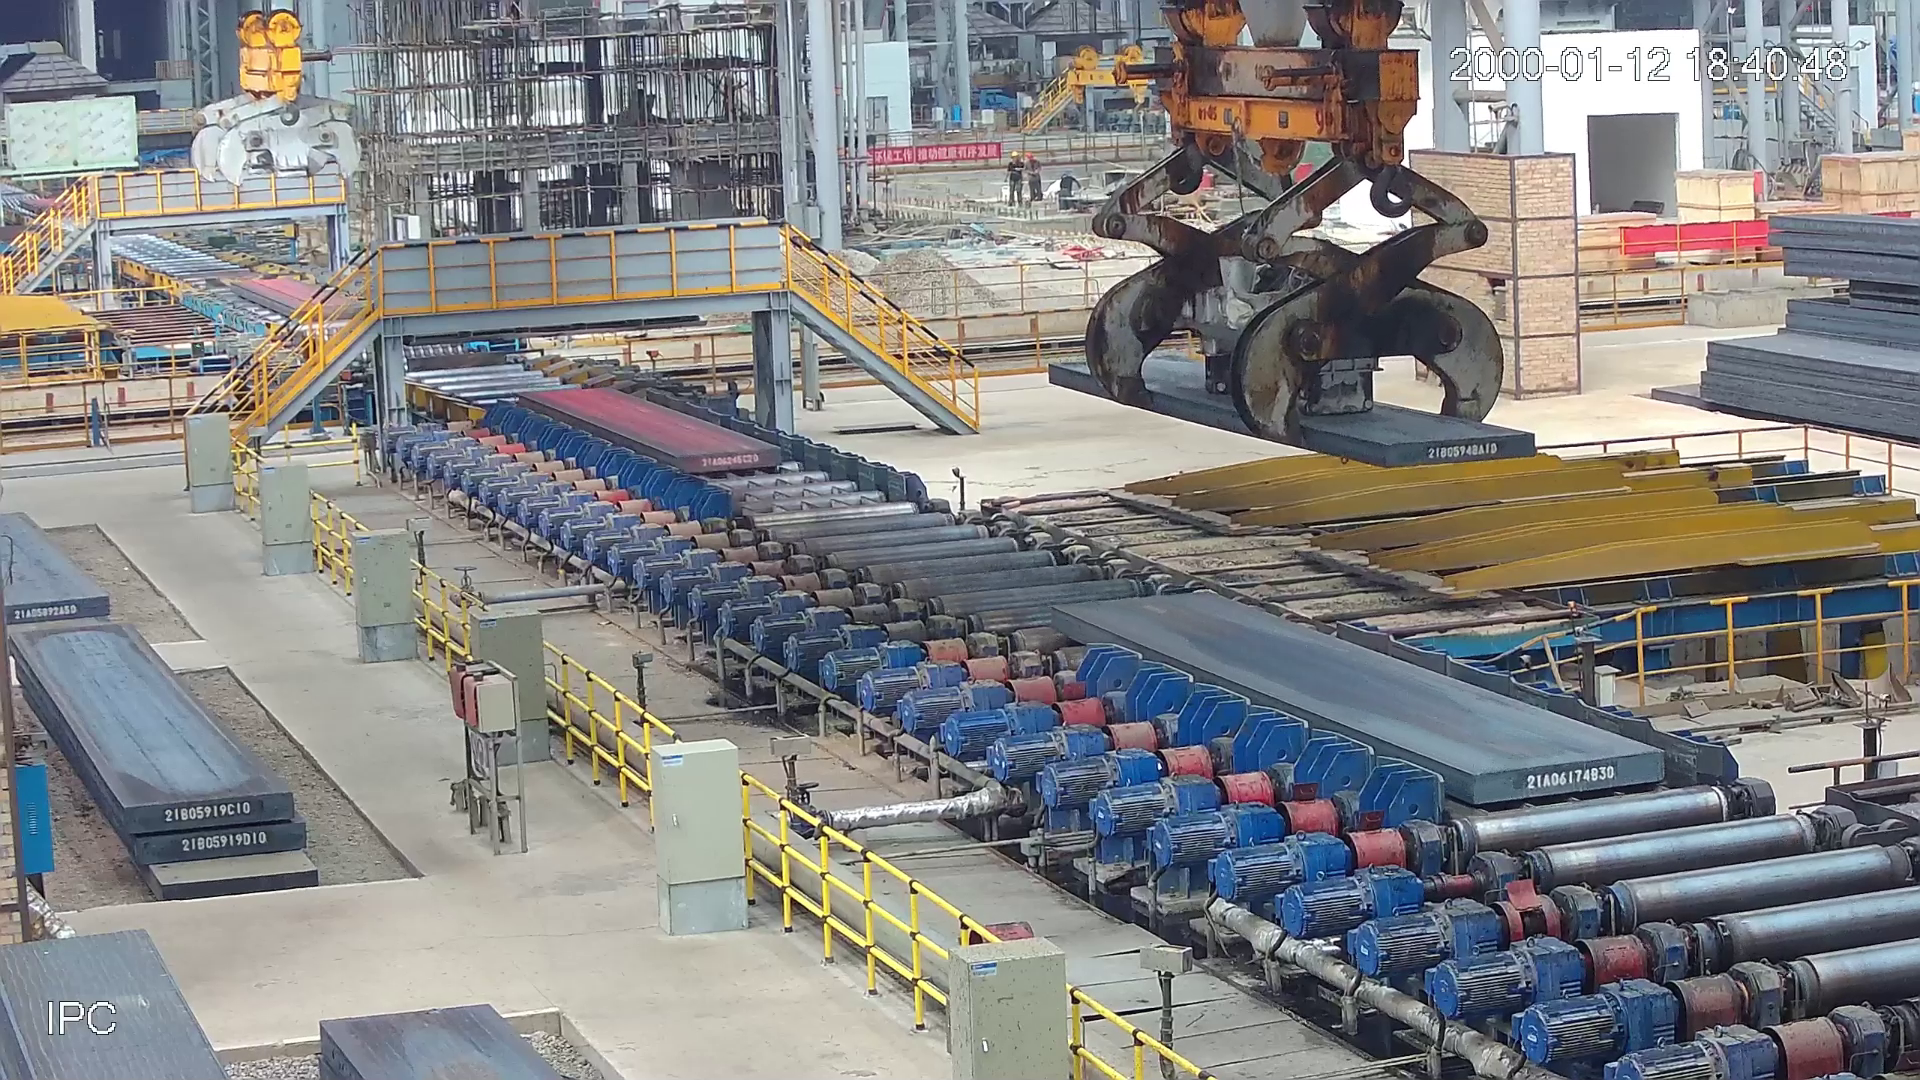crane: (169, 1, 360, 200)
craneandslab: (1042, 1, 1545, 472)
slab: (1029, 587, 1677, 802), (506, 382, 789, 477), (227, 272, 375, 323)
